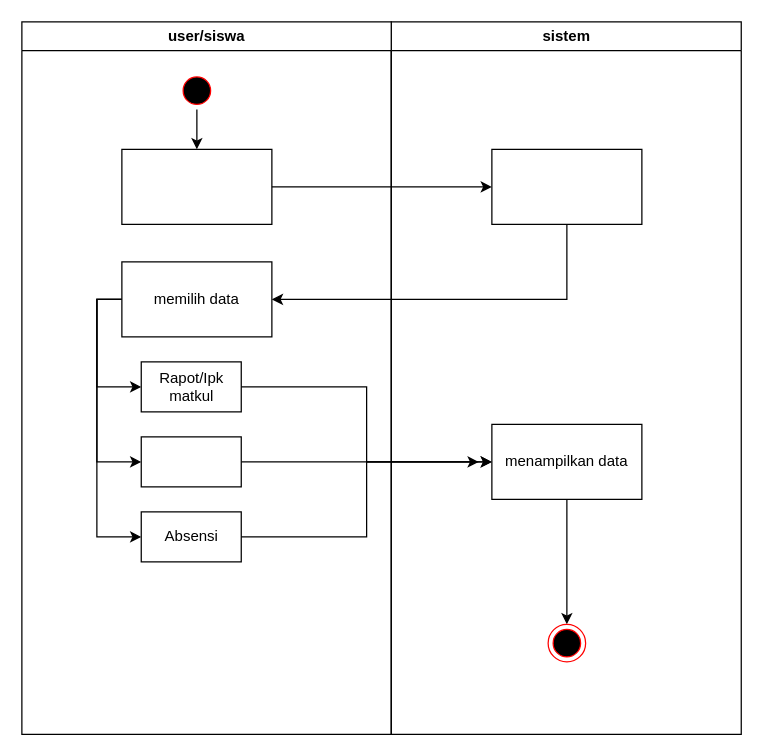
This 764x756 diagram has some shape labels left out. The centre of each missing label's shape, as x and y in pixels:
memilih menu melihat data dan absensi: pixel 196 186
menampilkan pilihan data: pixel 566 186
Profile: pixel 190 461
